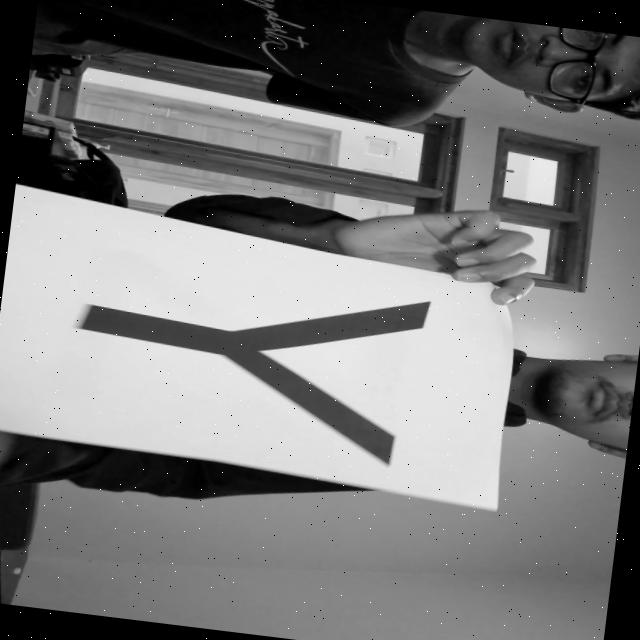y: (41, 241, 446, 476)
